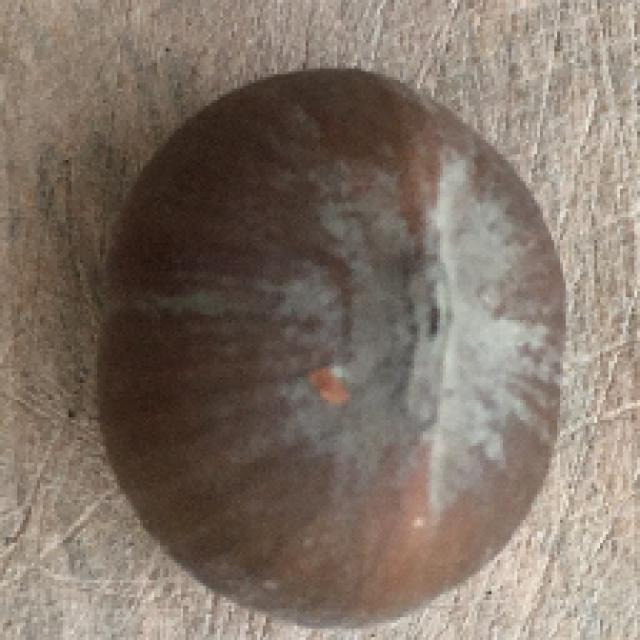DamagedHazelnut: (95, 73, 568, 629)
